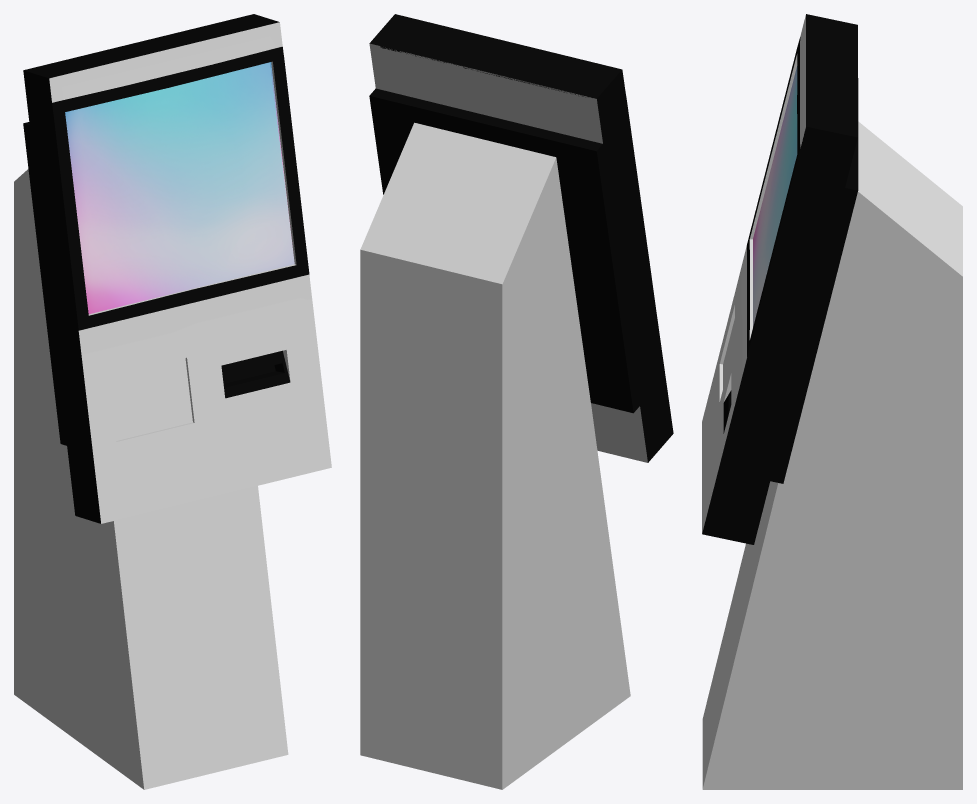
File: registerbox 2.fbx
3 views of the same model, side by side, from view 1: azimuth 30°, elevation 25°; view 2: azimuth 150°, elevation 25°; view 3: azimuth 270°, elevation 25° (orthographic).
Visible parts, largest first — view 1: Cube, Cube.001, Cube.002; view 2: Cube.001, Cube, Cube.002; view 3: Cube.001, Cube, Cube.002.
Boxes of the visible parts, <box> form: Cube: <box>23,14,331,523</box>; Cube.001: <box>14,169,288,789</box>; Cube.002: <box>23,122,67,445</box>; Cube.001: <box>360,122,630,789</box>; Cube: <box>369,14,673,462</box>; Cube.002: <box>369,88,639,413</box>; Cube.001: <box>702,121,962,789</box>; Cube: <box>702,14,857,544</box>; Cube.002: <box>770,78,858,483</box>.
Bounding box in the file's own units: 80 × 227 × 78.32.
Materials: 5 (1 with a texture image).
